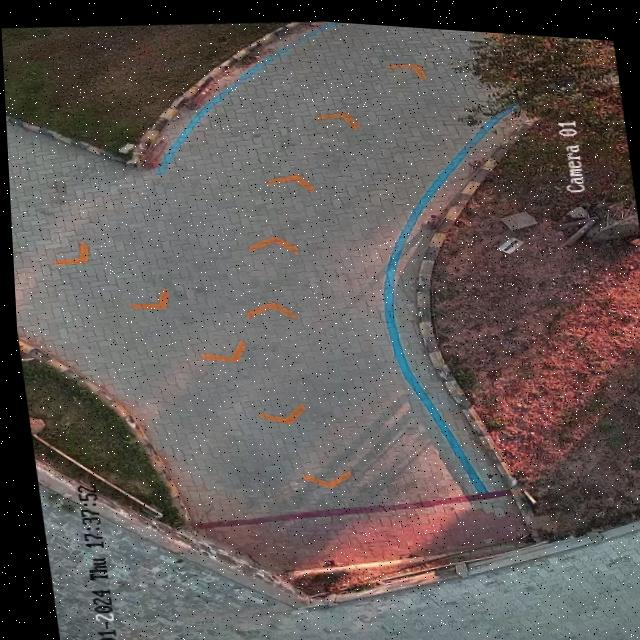No Car: (1, 16, 640, 640)
